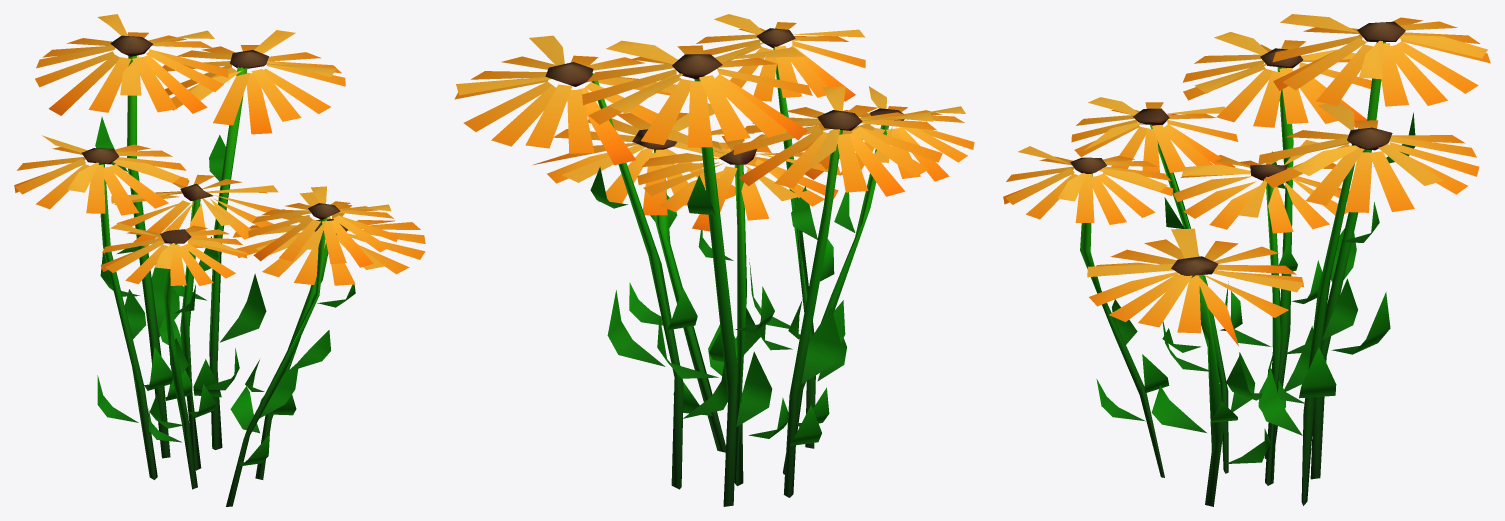
The model's file is flower (6)_LOD2.fbx.
3 views of the same model, side by side, from view 1: azimuth 30°, elevation 25°; view 2: azimuth 150°, elevation 25°; view 3: azimuth 270°, elevation 25° (orthographic). The views are drawn at different scales.
Visible parts, largest first — view 1: 05_BlackEyedSusan; view 2: 05_BlackEyedSusan; view 3: 05_BlackEyedSusan.
Boxes of the visible parts, bbox=[...] form: 05_BlackEyedSusan: bbox=[14, 14, 425, 506]; 05_BlackEyedSusan: bbox=[454, 14, 974, 506]; 05_BlackEyedSusan: bbox=[1003, 14, 1490, 506].
Bounding box in the file's own units: 86.3 × 92.91 × 90.81.
